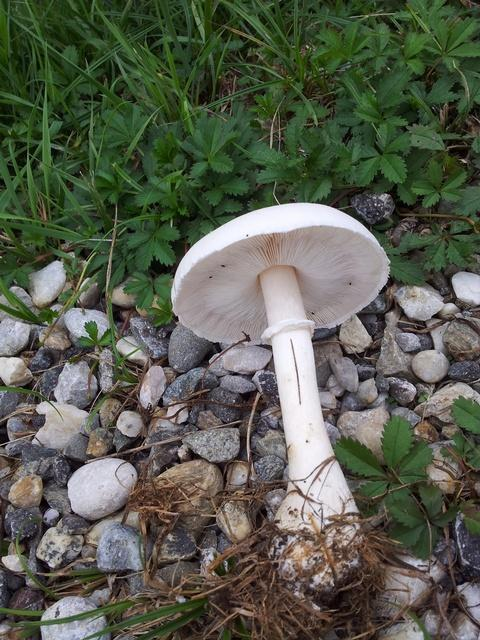Non-edible Mushroom: (169, 200, 391, 605)
